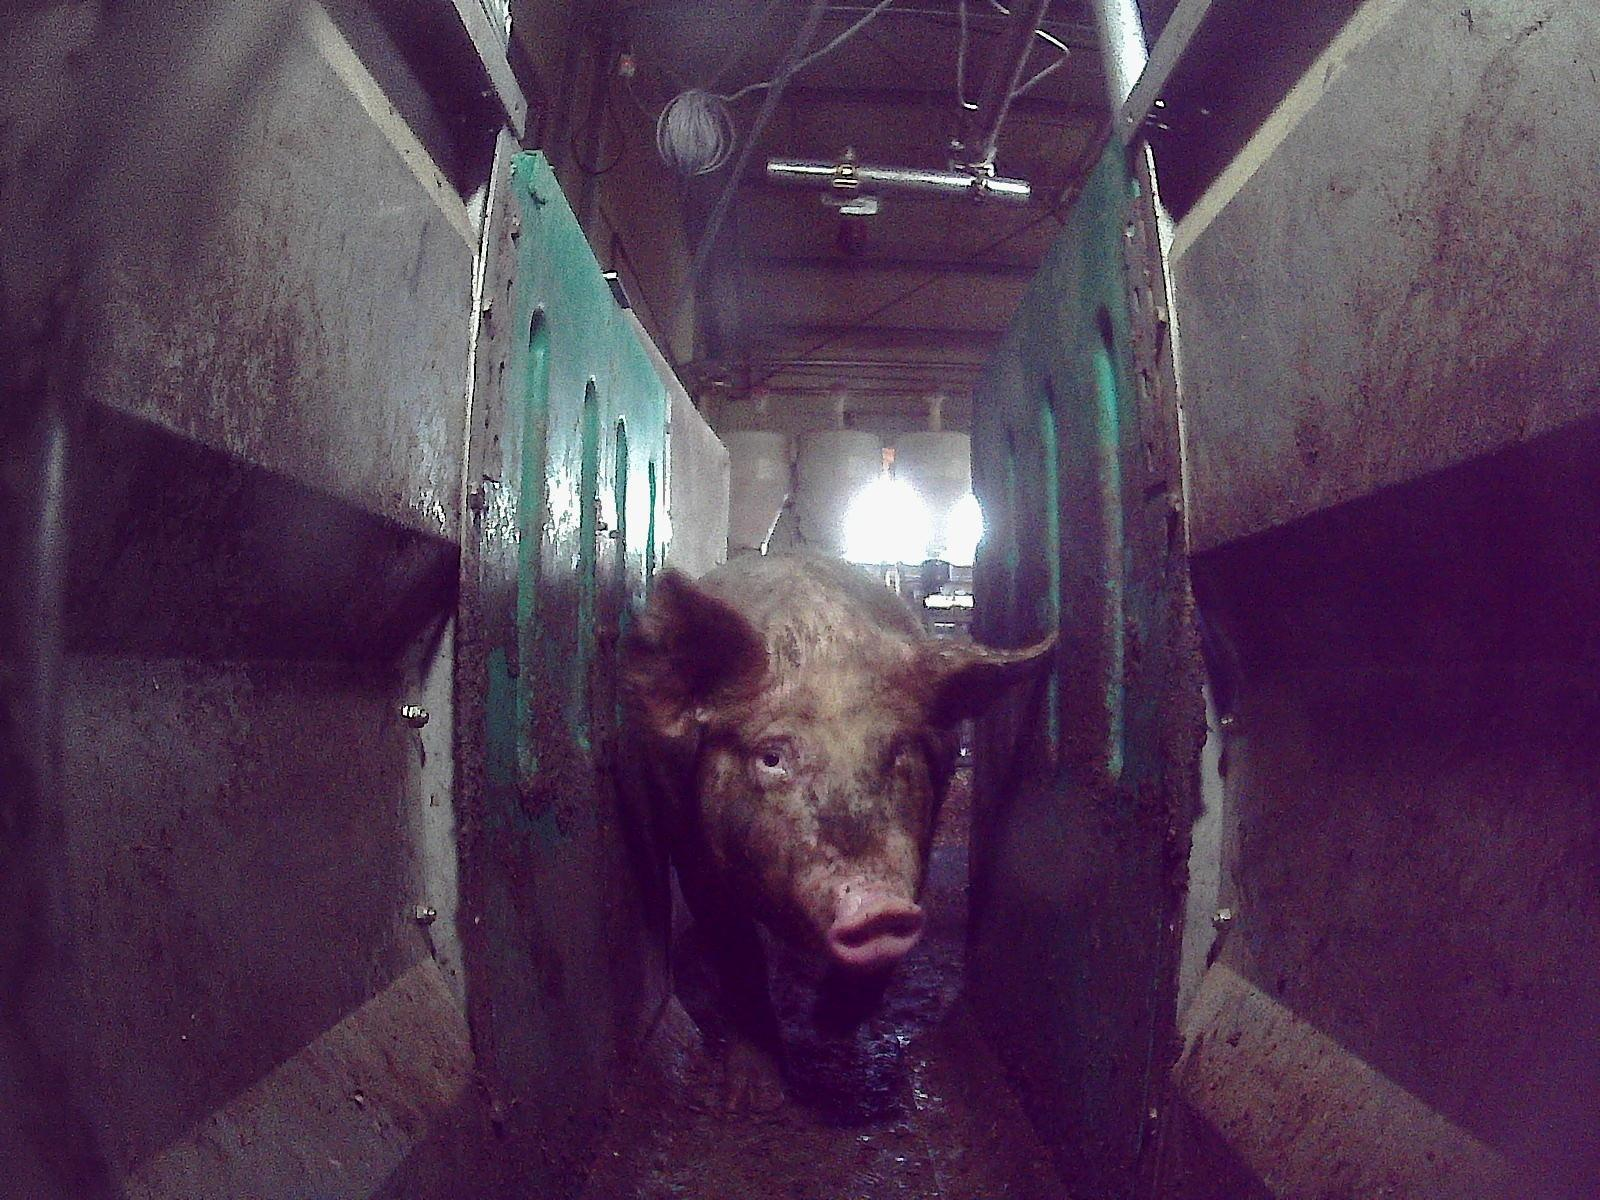Face: (692, 651, 941, 969)
